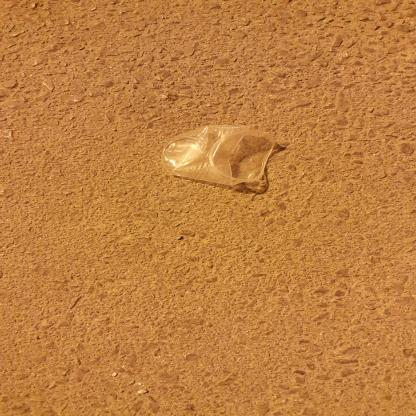plastik: (229, 161, 292, 279)
